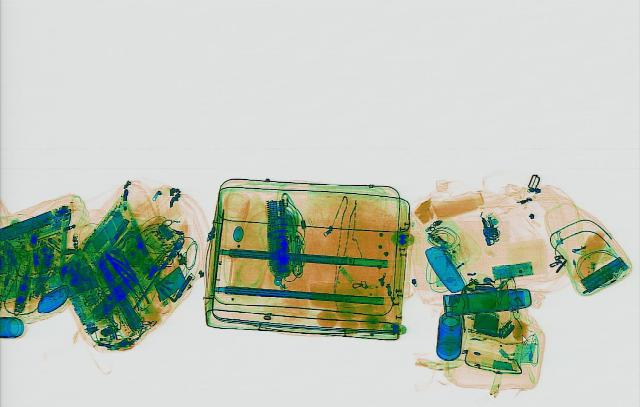Pliers: (96, 249, 144, 292)
